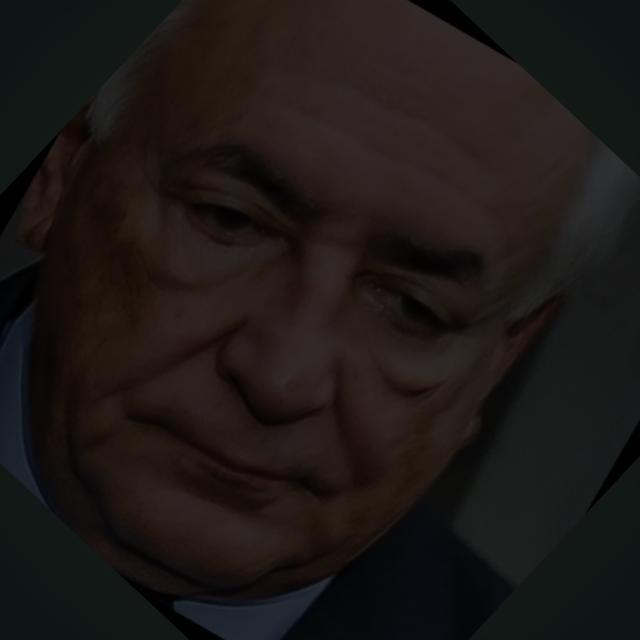Sad: (106, 113, 515, 597)
